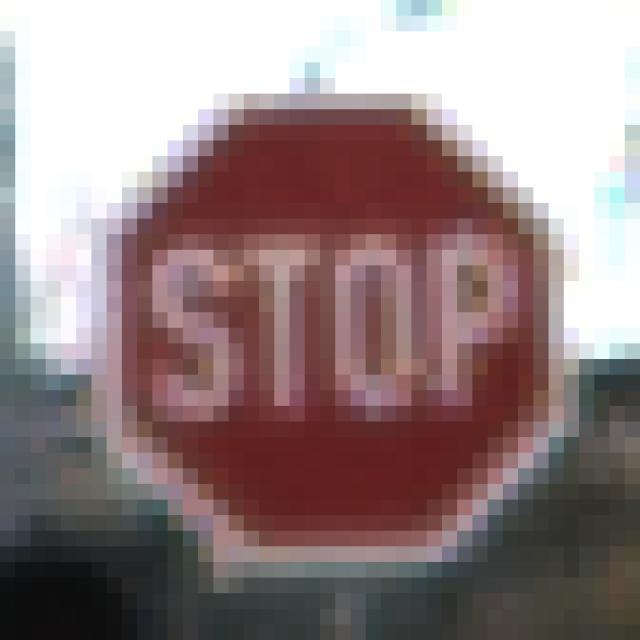STOP: (77, 79, 565, 563)
